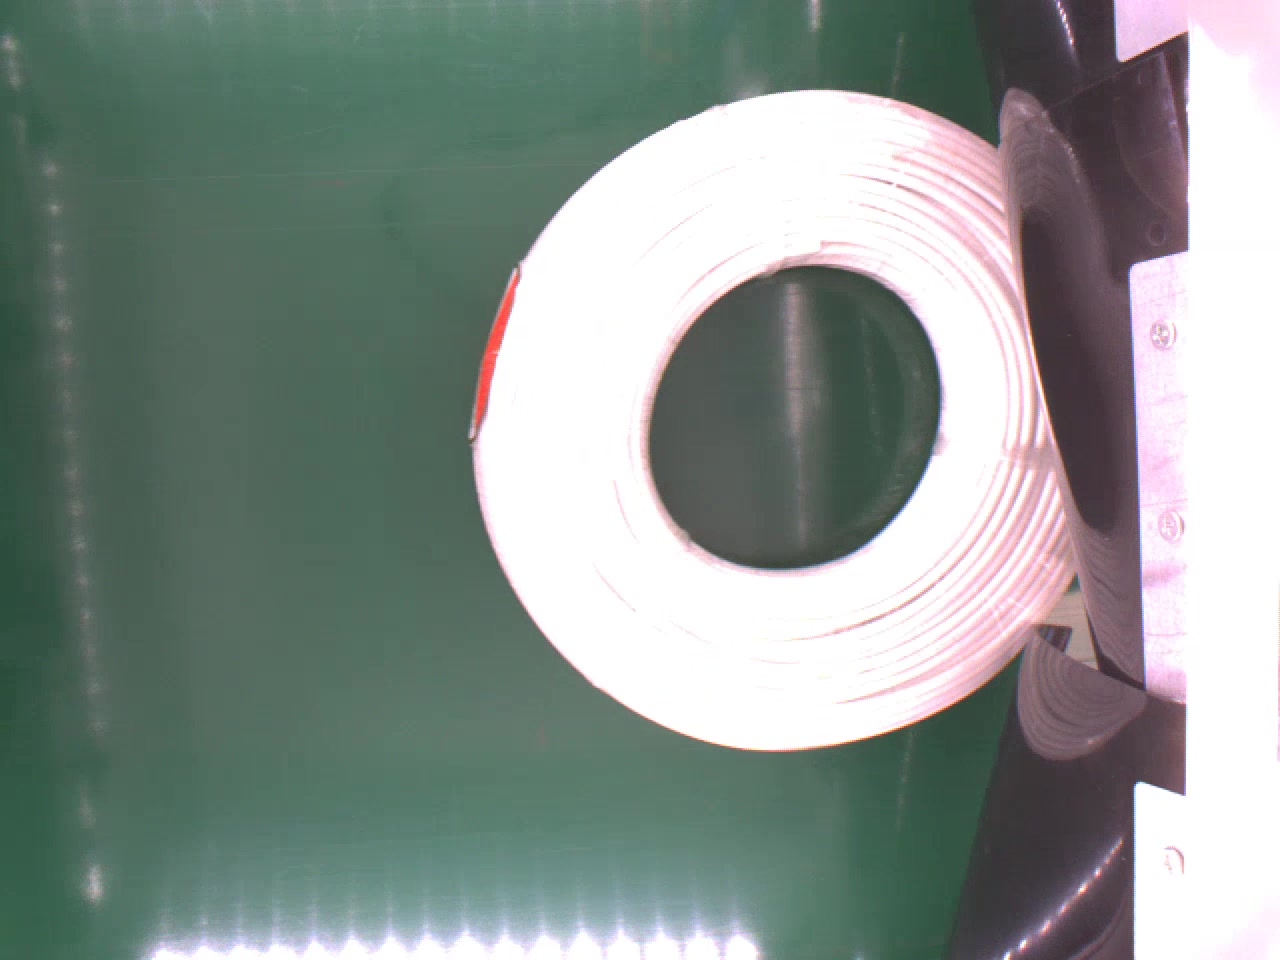white: (450, 86, 1083, 763)
